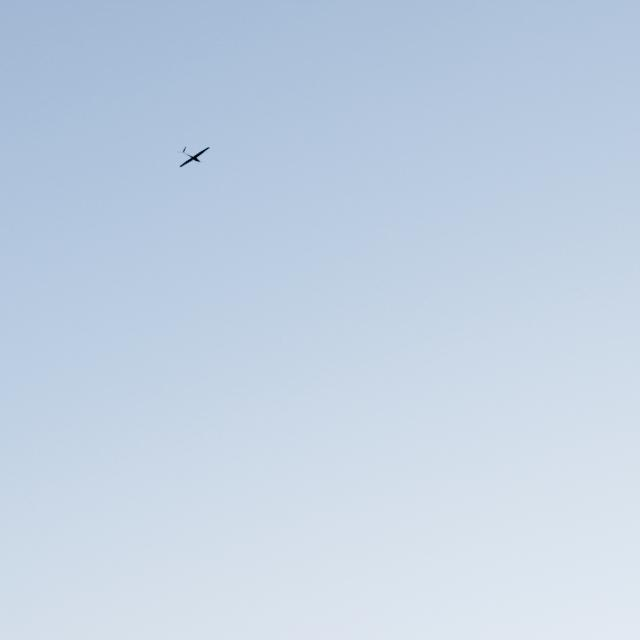Airaplan: (177, 146, 210, 167)
